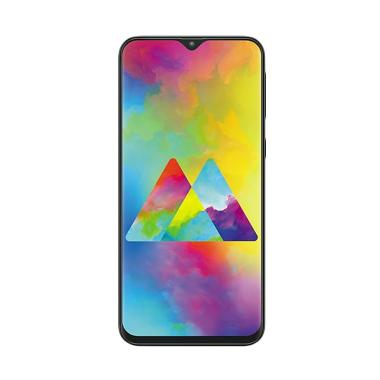Handphone: (116, 31, 271, 351)
